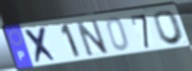0: (105, 16, 132, 54)
1: (60, 22, 83, 60)
7: (129, 13, 151, 49)
N: (74, 18, 111, 58)
O: (152, 9, 187, 47)
X: (23, 25, 60, 66)
